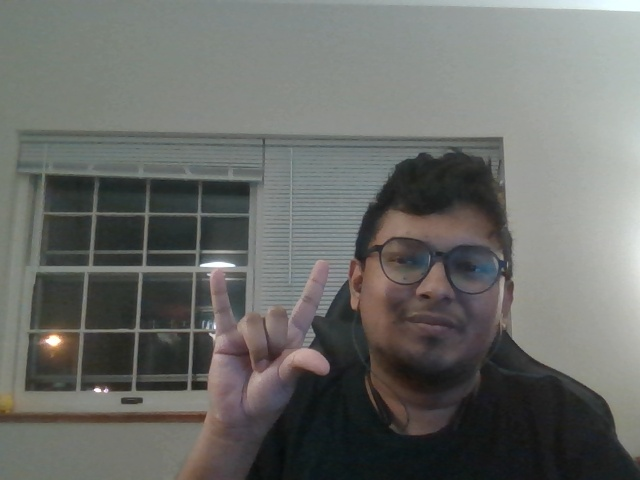ilikeyou: (181, 256, 345, 434)
